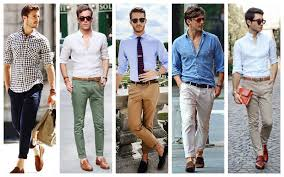F_belt: (69, 72, 108, 88), (180, 78, 220, 93), (238, 72, 275, 85), (126, 76, 164, 88)
F_shirt: (57, 28, 113, 82), (230, 31, 281, 79)
F_tie: (133, 34, 149, 83)
